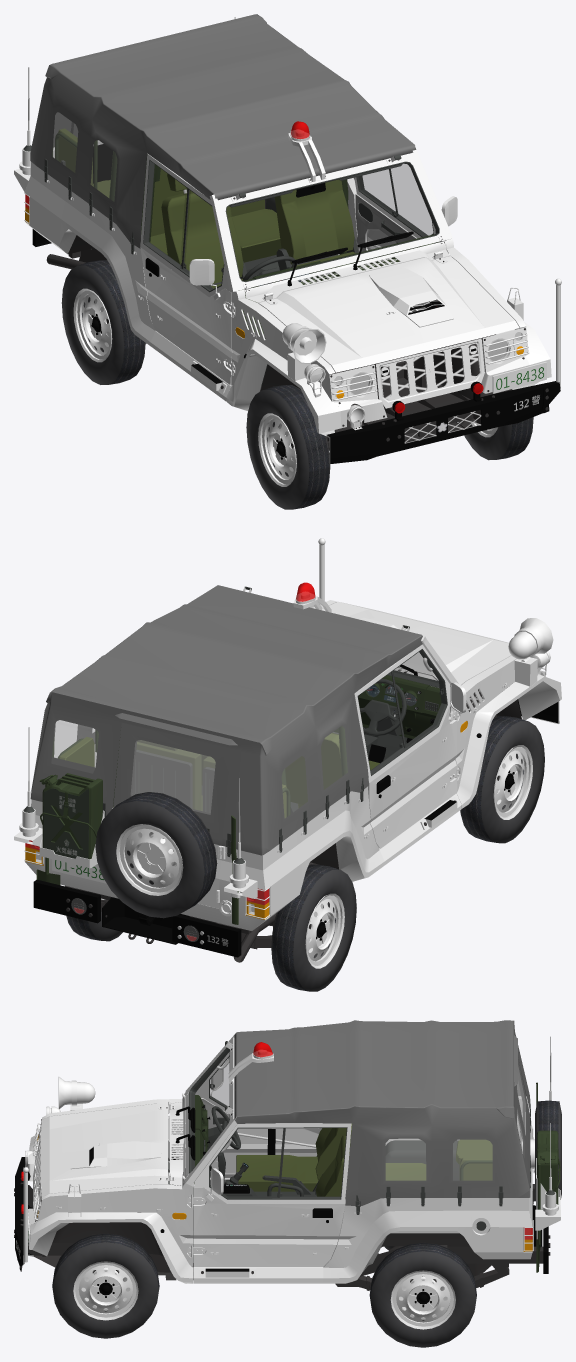
Rendered from car-ossps.glb.
3 renders of one model, top to bottom at view 1: azimuth 30°, elevation 25°; view 2: azimuth 150°, elevation 25°; view 3: azimuth 270°, elevation 25°, orthographic. The views are drawn at different scales.
Parts seen in each view (by area): view 1: polySurface7066, polySurface330, polySurface7110, polySurface164 (×2), polySurface7050, polySurface7071 (×2), polySurface129, polySurface371, polySurface348, polySurface127, polySurface7039, polySurface7037 (+19 smaller); view 2: polySurface7066, polySurface7108, polySurface118, polySurface7050, polySurface7064, polySurface127, polySurface129, polySurface7071, polySurface7019, polySurface7110, polySurface172 (×2), polySurface7039 (+17 smaller); view 3: polySurface7066, polySurface7071 (×2), polySurface7050, polySurface7110, polySurface130, polySurface128, polySurface7037, polySurface330, polySurface7103, polySurface7102, polySurface7039, polySurface7108 (+19 smaller).
Boxes of the visible parts, box(x1,y1,x2,y2) form: polySurface7066: box(30, 14, 416, 254); polySurface330: box(209, 145, 452, 292); polySurface7110: box(244, 242, 519, 442); polySurface164 (×2): box(161, 174, 354, 283); polySurface7050: box(24, 162, 412, 401); polySurface7071 (×2): box(140, 194, 446, 385); polySurface129: box(246, 385, 330, 509); polySurface371: box(329, 327, 529, 428); polySurface348: box(326, 278, 561, 463); polySurface127: box(61, 260, 145, 384); polySurface7039: box(226, 322, 551, 436); polySurface7037: box(231, 238, 526, 401); polySurface7066: box(30, 585, 422, 856); polySurface7108: box(14, 727, 270, 930); polySurface118: box(95, 792, 217, 918); polySurface7050: box(94, 744, 461, 929); polySurface7064: box(113, 722, 231, 845); polySurface127: box(271, 864, 356, 991); polySurface129: box(460, 716, 544, 843); polySurface7071: box(368, 704, 457, 848); polySurface7019: box(33, 879, 241, 957); polySurface7110: box(322, 601, 511, 685); polySurface172 (×2): box(133, 740, 215, 812); polySurface7039: box(456, 674, 561, 808); polySurface7066: box(234, 1020, 530, 1214); polySurface7071 (×2): box(193, 1098, 345, 1266); polySurface7050: box(193, 1096, 532, 1283); polySurface7110: box(41, 1098, 184, 1196); polySurface130: box(52, 1233, 159, 1338); polySurface128: box(369, 1242, 476, 1347); polySurface7037: box(37, 1092, 192, 1266); polySurface330: box(185, 1032, 236, 1185); polySurface7103: box(280, 1128, 345, 1196); polySurface7102: box(210, 1128, 284, 1197); polySurface7039: box(29, 1134, 193, 1283); polySurface7108: box(523, 1036, 560, 1272).
Bounding box in the file's own units: 2.57 × 2.76 × 5.3.
17 materials, 3 textured.
